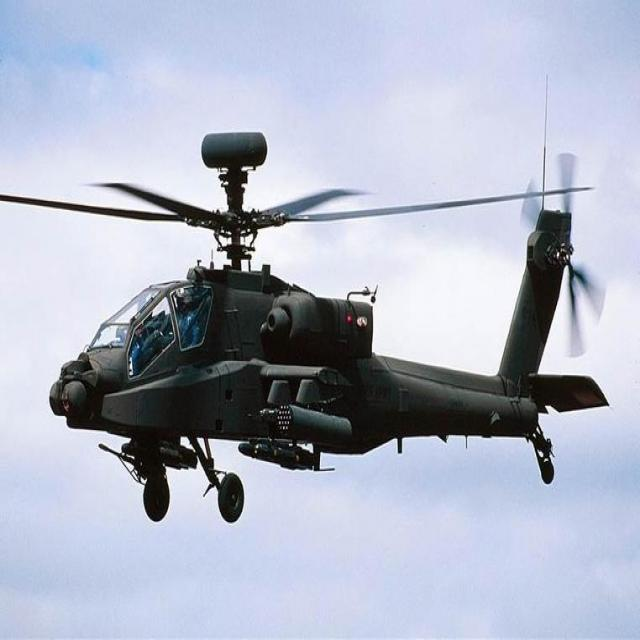MIL_HELO: (0, 117, 633, 532)
